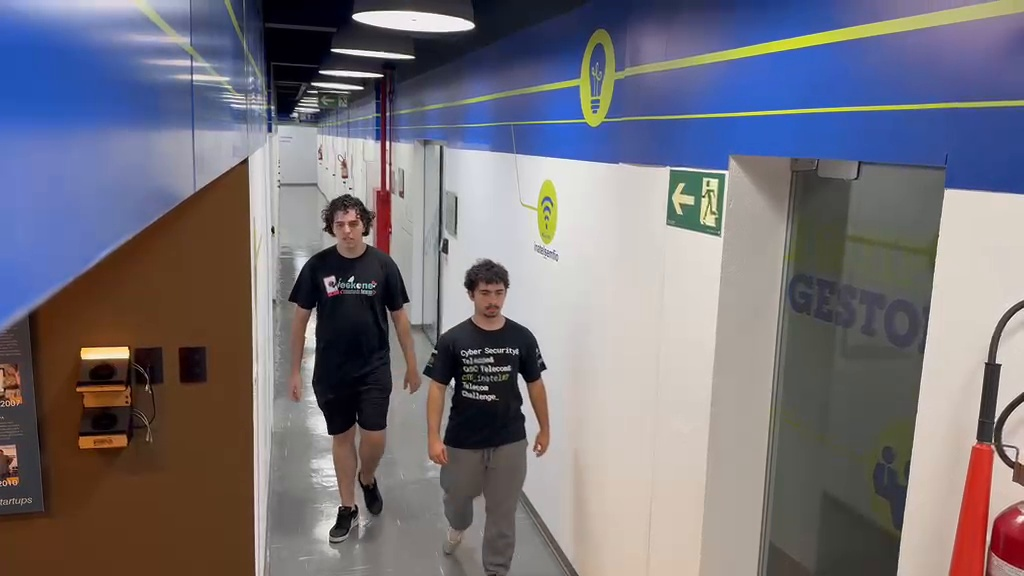person: (287, 192, 421, 541), (422, 258, 551, 573)
